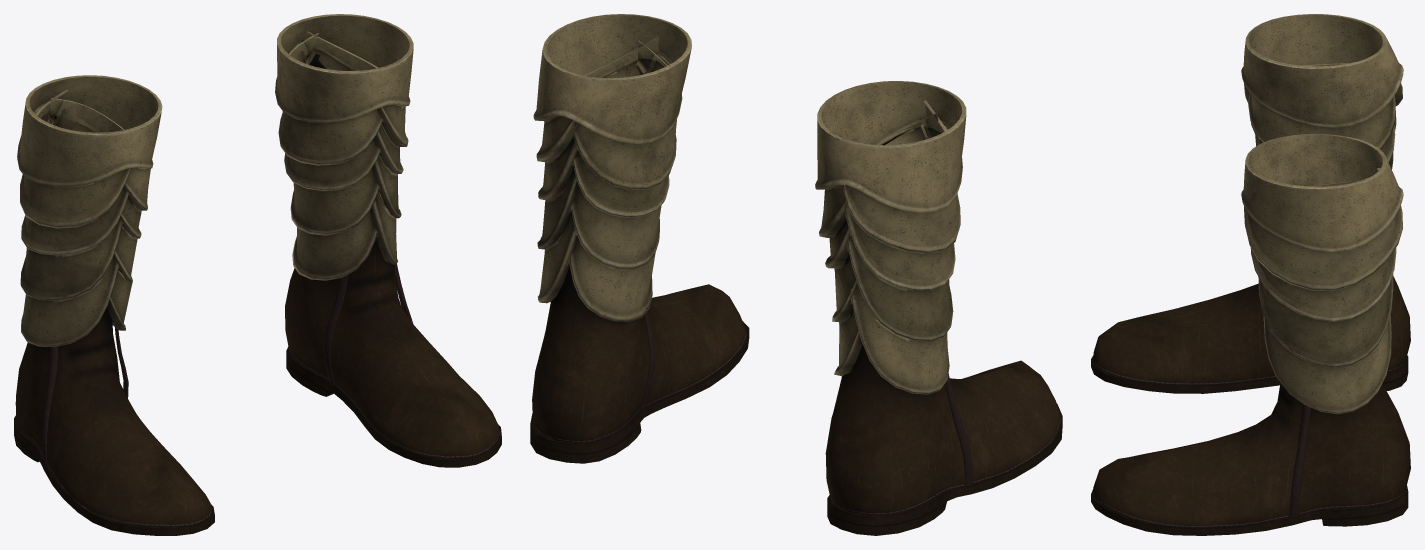
File: am_golden_flower_knight_boots.fbx
3 views of the same model, side by side, from view 1: azimuth 30°, elevation 25°; view 2: azimuth 150°, elevation 25°; view 3: azimuth 270°, elevation 25° (orthographic). The views are drawn at different scales.
Visible parts, largest first — view 1: am_golden_flower_knight_boots; view 2: am_golden_flower_knight_boots; view 3: am_golden_flower_knight_boots.
Part boxes in pixels (x1,y1,x2,y2): am_golden_flower_knight_boots: (14,14,501,535); am_golden_flower_knight_boots: (530,14,1062,535); am_golden_flower_knight_boots: (1091,14,1410,535).
Size of the model in its own units: 0.4619 by 0.3278 by 0.3865.
Materials: 1 (1 with a texture image).
